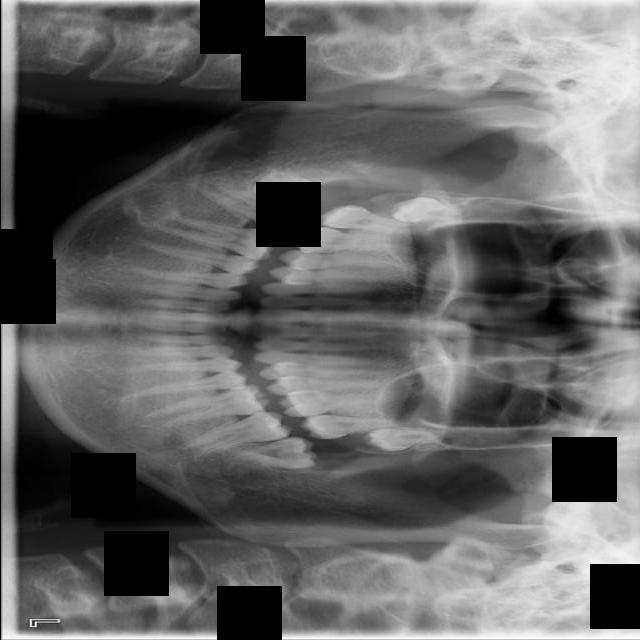3M ESPE Implant: (388, 196, 465, 223)
52: (259, 195, 312, 242), (247, 400, 295, 450), (237, 219, 284, 270), (275, 433, 319, 472), (317, 205, 364, 229), (293, 227, 336, 253), (222, 255, 259, 275)
73: (80, 570, 110, 576)
BioHorizons Implant: (298, 414, 420, 440)
BioLife Implant: (362, 428, 437, 453)
Biomet 3i Implant: (222, 434, 319, 476)
Blue Sky Bio Implant: (174, 405, 293, 461)
Caries: (315, 202, 410, 235)
Implant: (201, 185, 311, 237)
Keystone Dental Implant: (250, 165, 314, 199)
